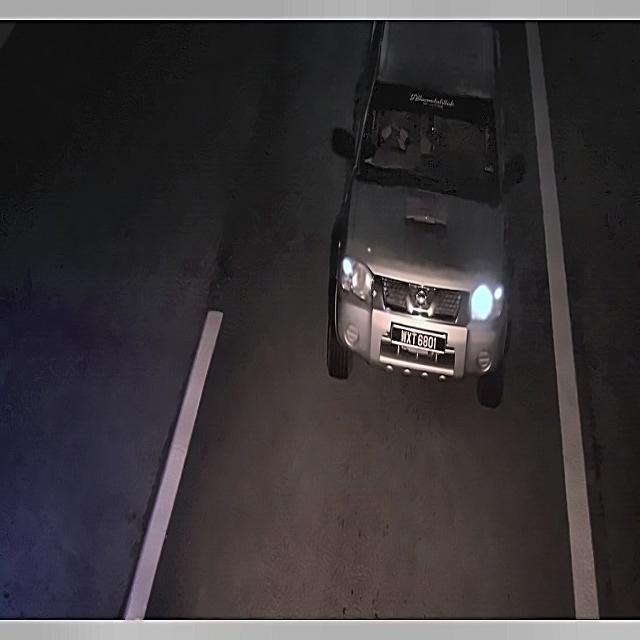car: (388, 319, 451, 362)
